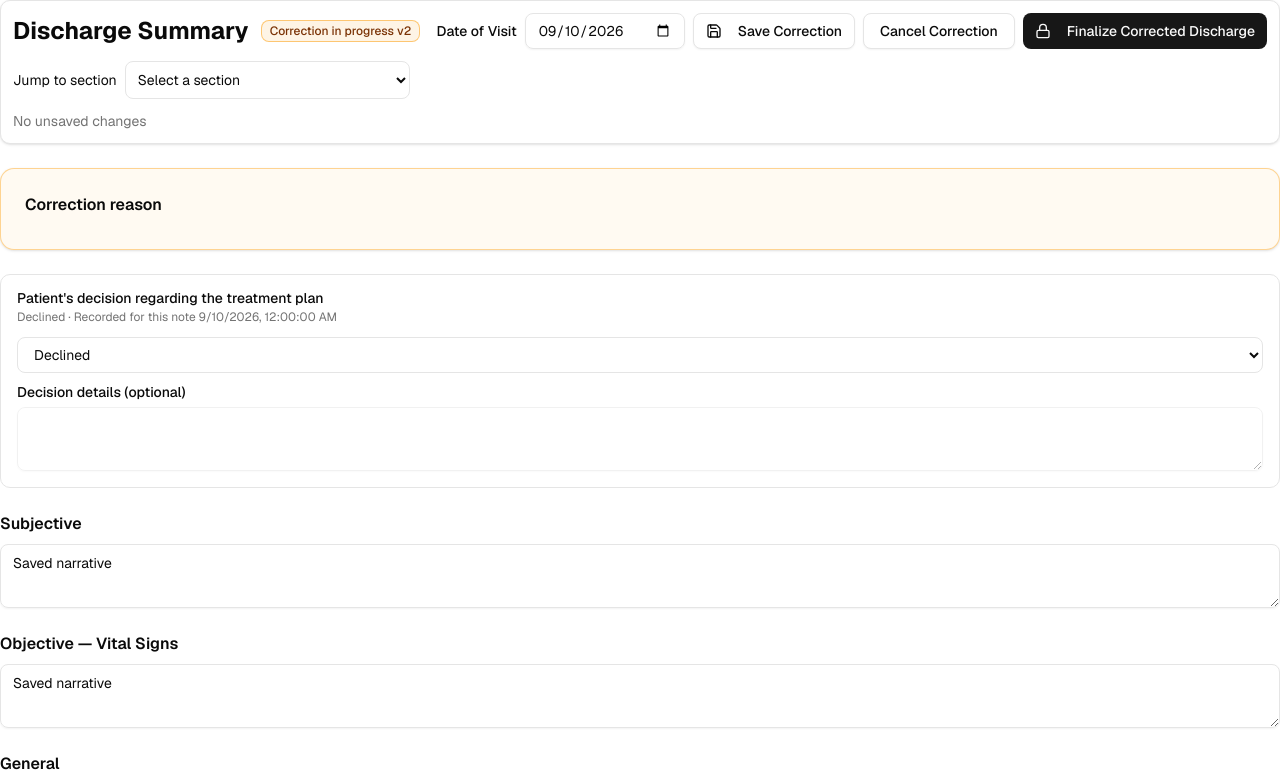
reviews correction consequences and distinguishes replacement signing failure
Click the button "Finalize Corrected Discharge": x=1145, y=31 [1023,13,1267,49]
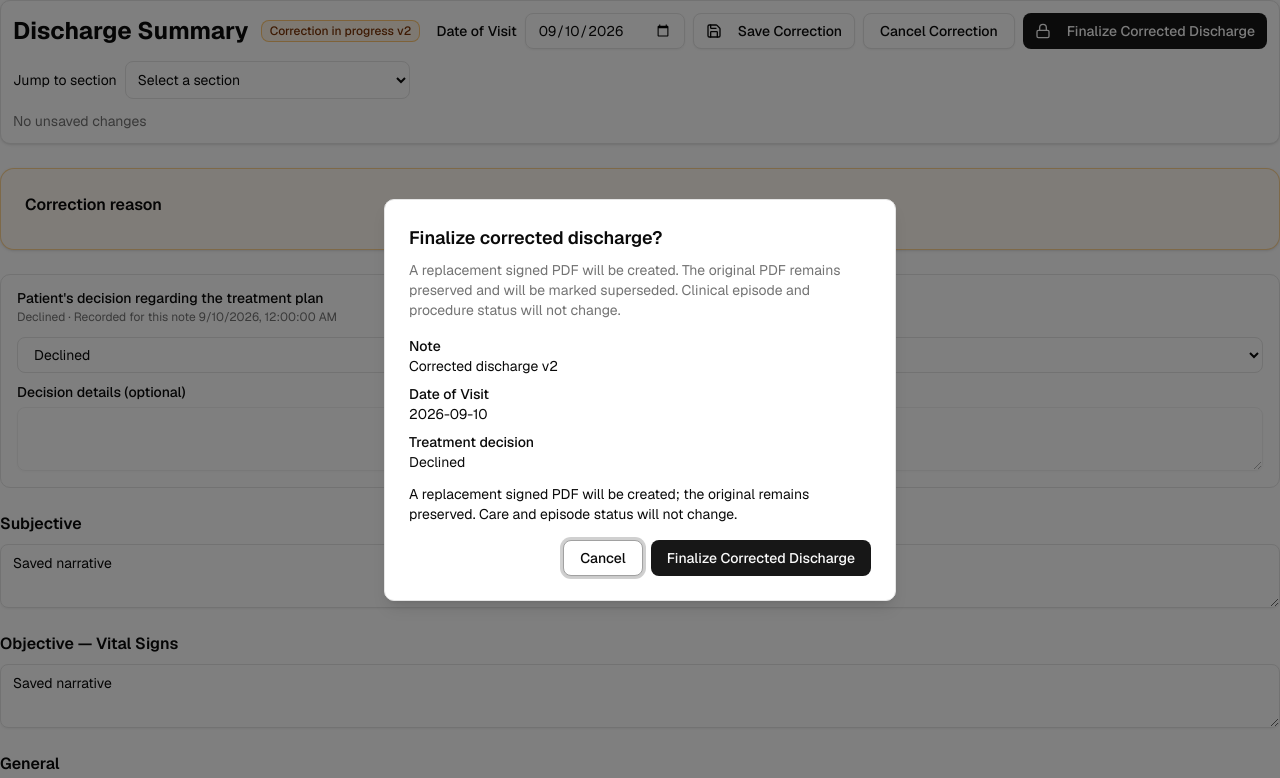
Now the text "Care and episode status will not change" is shown, box [409,485,809,523]
Click the button "Finalize Corrected Discharge": x=761, y=558 [651,540,871,576]
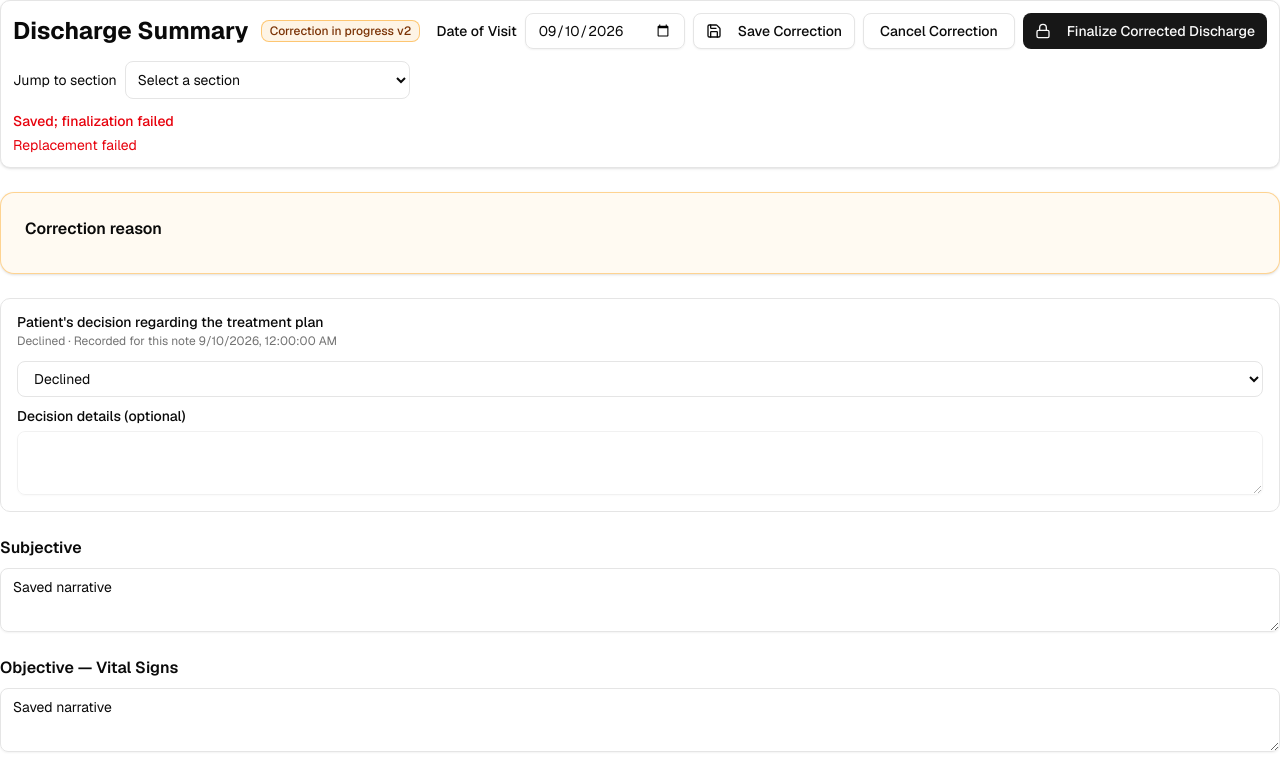
Now the text "Saved; finalization failed" is shown, box [13,112,174,130]
